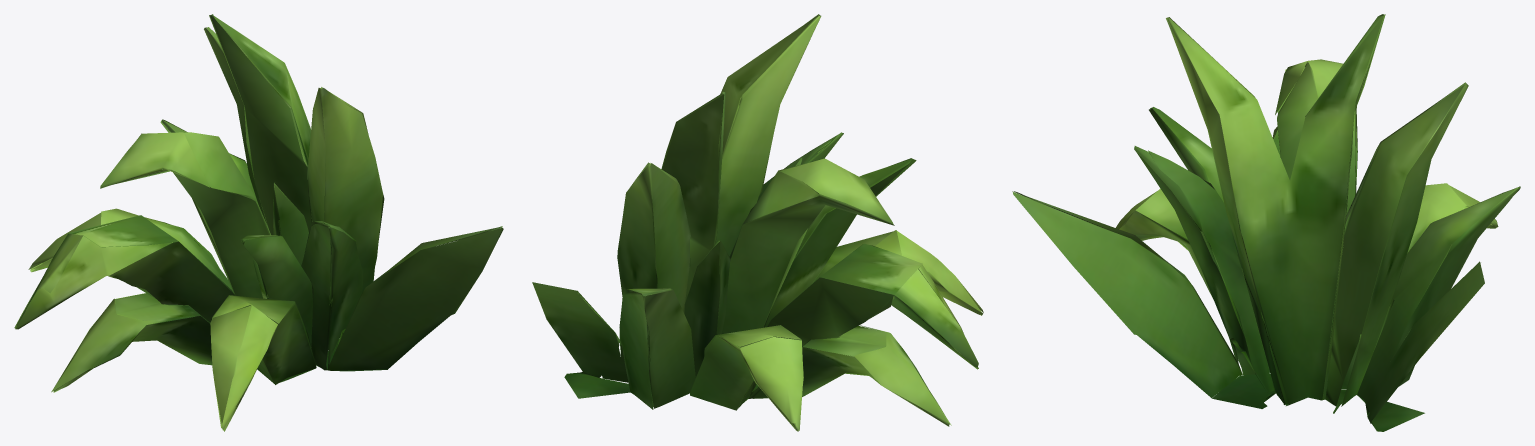
Rendered from grass_gen_e.glb.
3 renders of one model, left to right at view 1: azimuth 30°, elevation 25°; view 2: azimuth 150°, elevation 25°; view 3: azimuth 270°, elevation 25°, orthographic. The views are drawn at different scales.
Parts seen in each view (by area): view 1: grass_gen.004; view 2: grass_gen.004; view 3: grass_gen.004.
Part boxes in pixels (box(x1,y1,x2,y2)): grass_gen.004: box(14, 14, 503, 431); grass_gen.004: box(532, 14, 983, 431); grass_gen.004: box(1012, 14, 1520, 431).
Bounding box in the file's own units: 1.87 × 1.5 × 2.04.
Materials: 1 (1 with a texture image).
